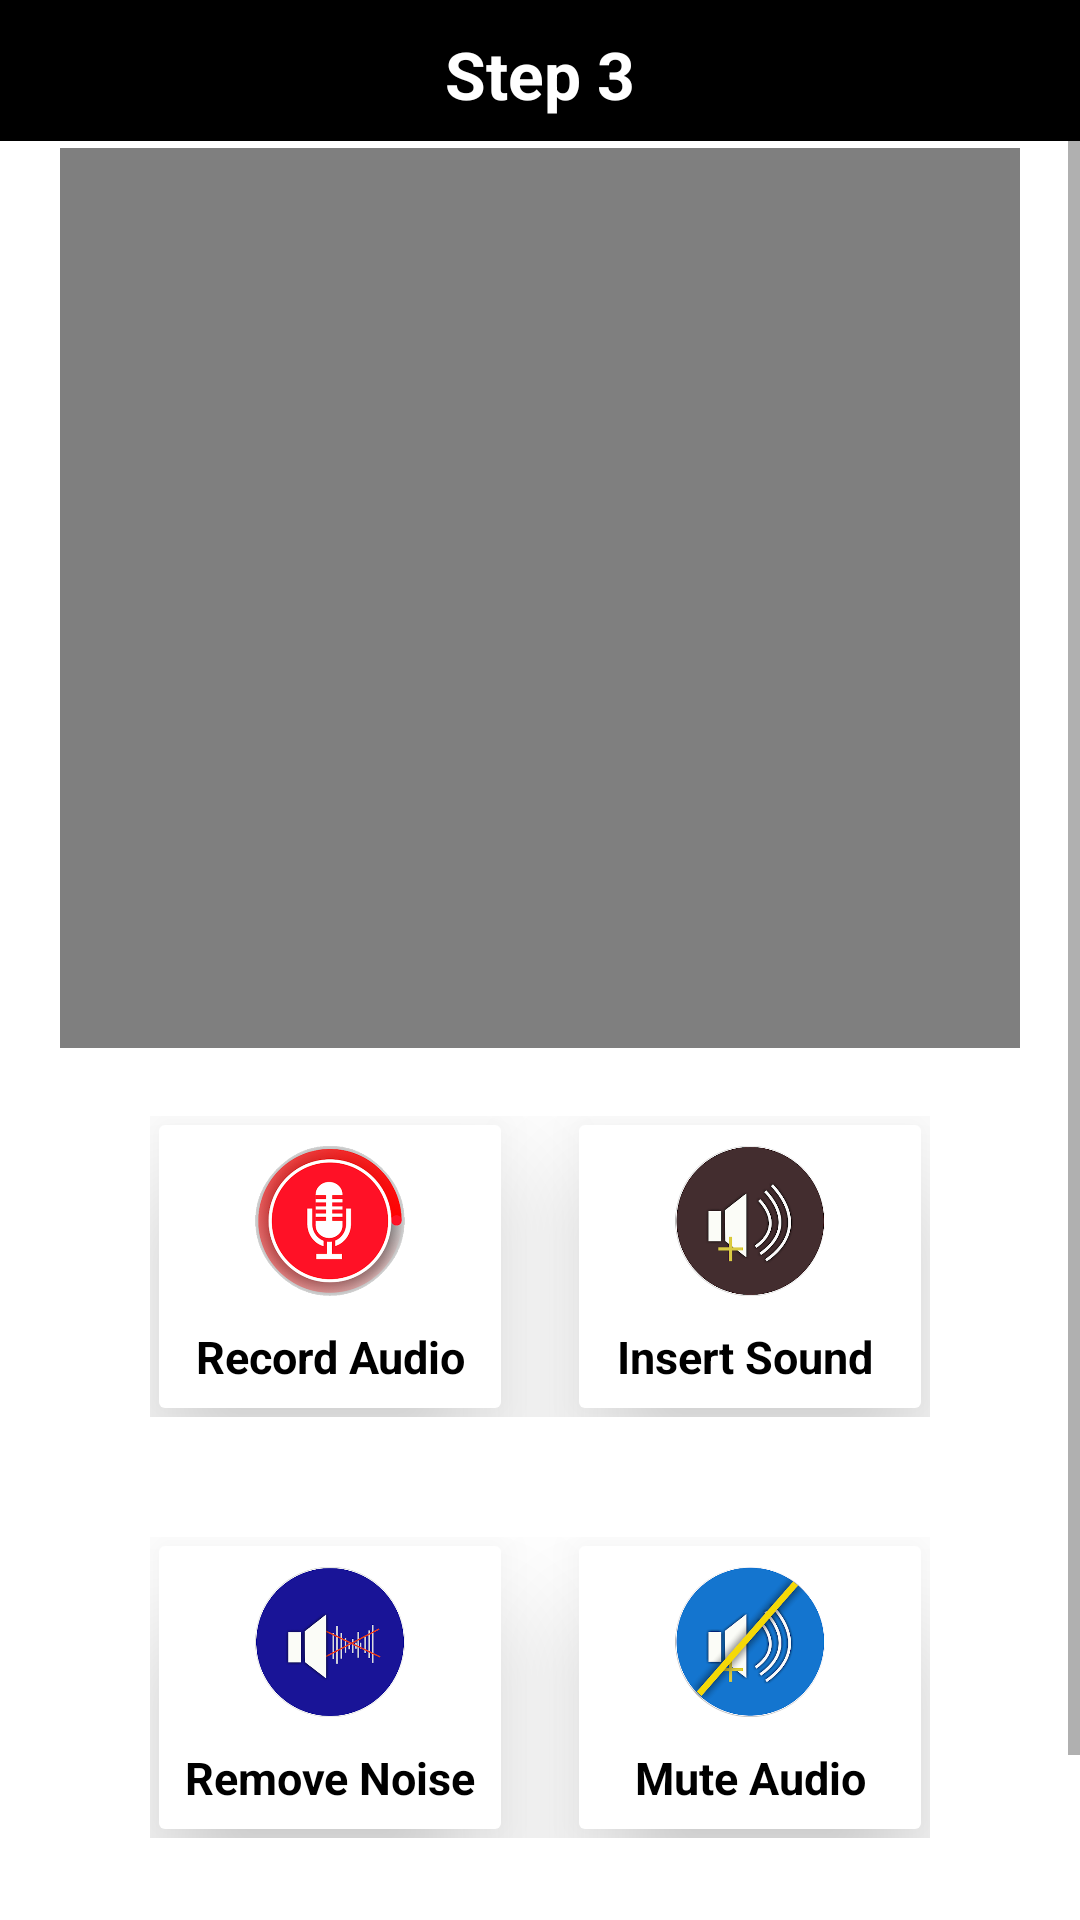

Where icons sit on this 1080×1920 app screen, as (x1, y1, x2, y2):
insertaudio: (675, 1146, 824, 1296)
